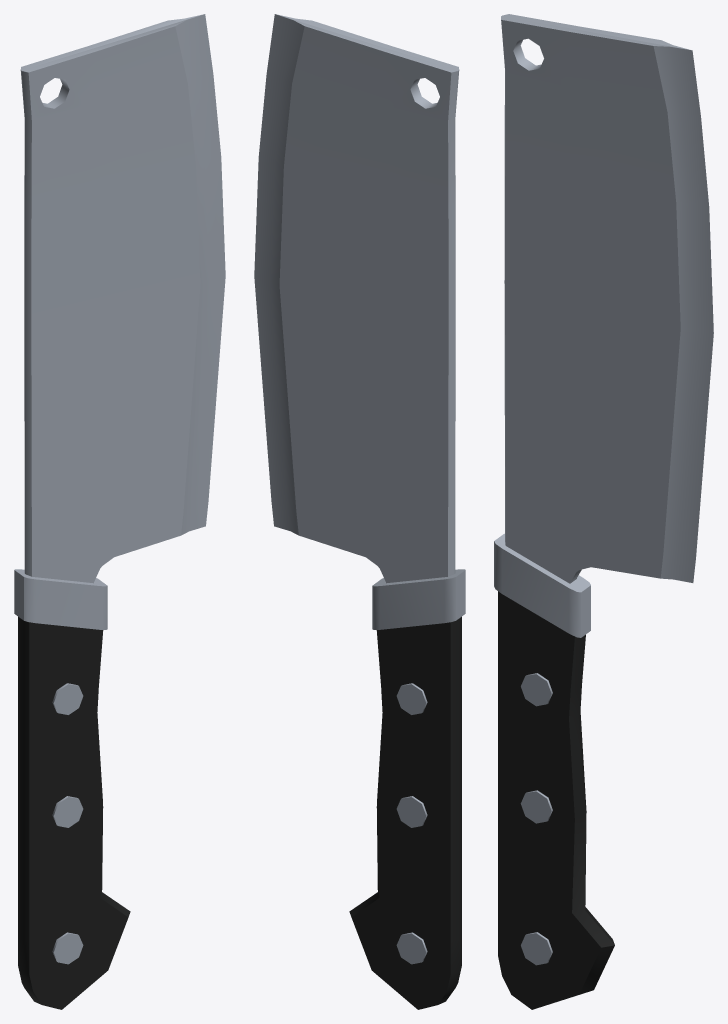
The model's file is Cleaver.glb.
3 renders of one model, left to right at view 1: azimuth 30°, elevation 25°; view 2: azimuth 150°, elevation 25°; view 3: azimuth 330°, elevation 25°, orthographic. The views are drawn at different scales.
Visible parts, largest first — view 1: knife_cleaver_w/hole_Cube.006; view 2: knife_cleaver_w/hole_Cube.006; view 3: knife_cleaver_w/hole_Cube.006.
Boxes of the visible parts, box(x1,y1,x2,y2) form: knife_cleaver_w/hole_Cube.006: box(14, 14, 225, 1009); knife_cleaver_w/hole_Cube.006: box(254, 14, 465, 1009); knife_cleaver_w/hole_Cube.006: box(494, 14, 713, 1009).
Bounding box in the file's own units: 1.51 × 6.69 × 0.1754.
Materials: 1 (1 with a texture image).
